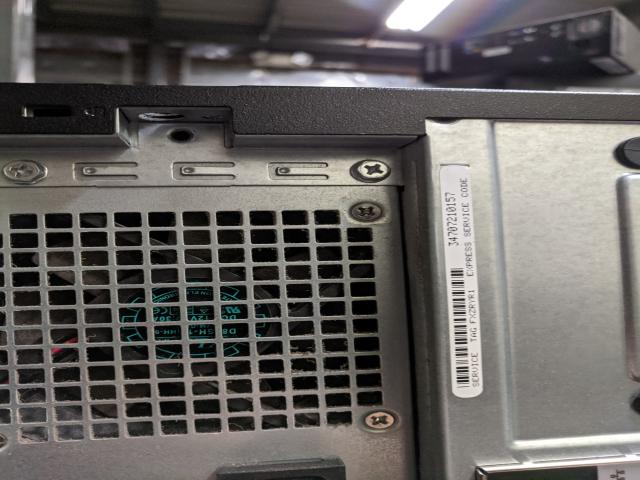CRS: (0, 158, 50, 186), (346, 158, 397, 181), (358, 408, 400, 430), (347, 201, 386, 223)
